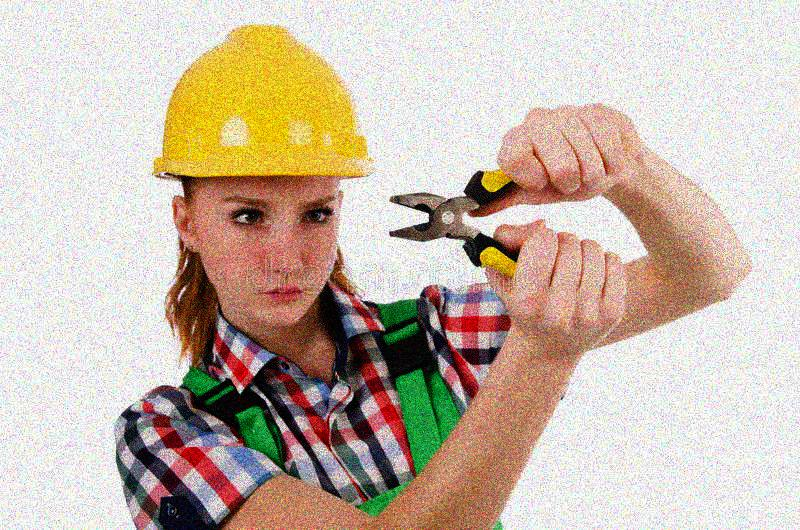helmet: (149, 23, 377, 330)
